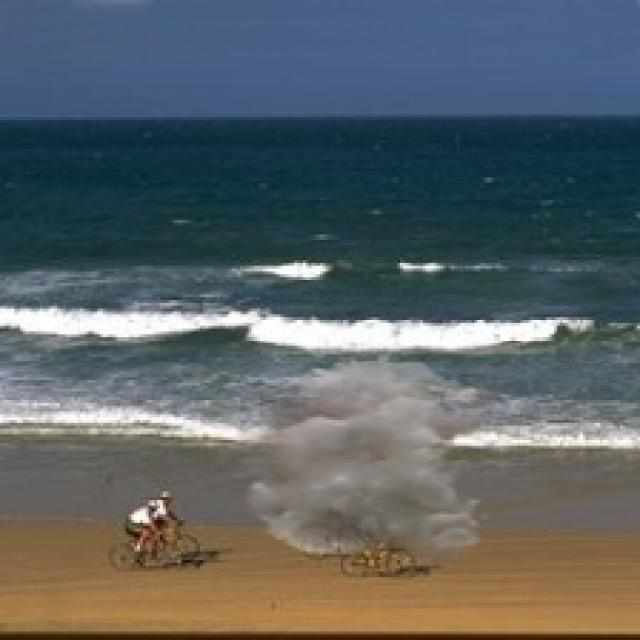Smoke: (212, 357, 494, 566)
